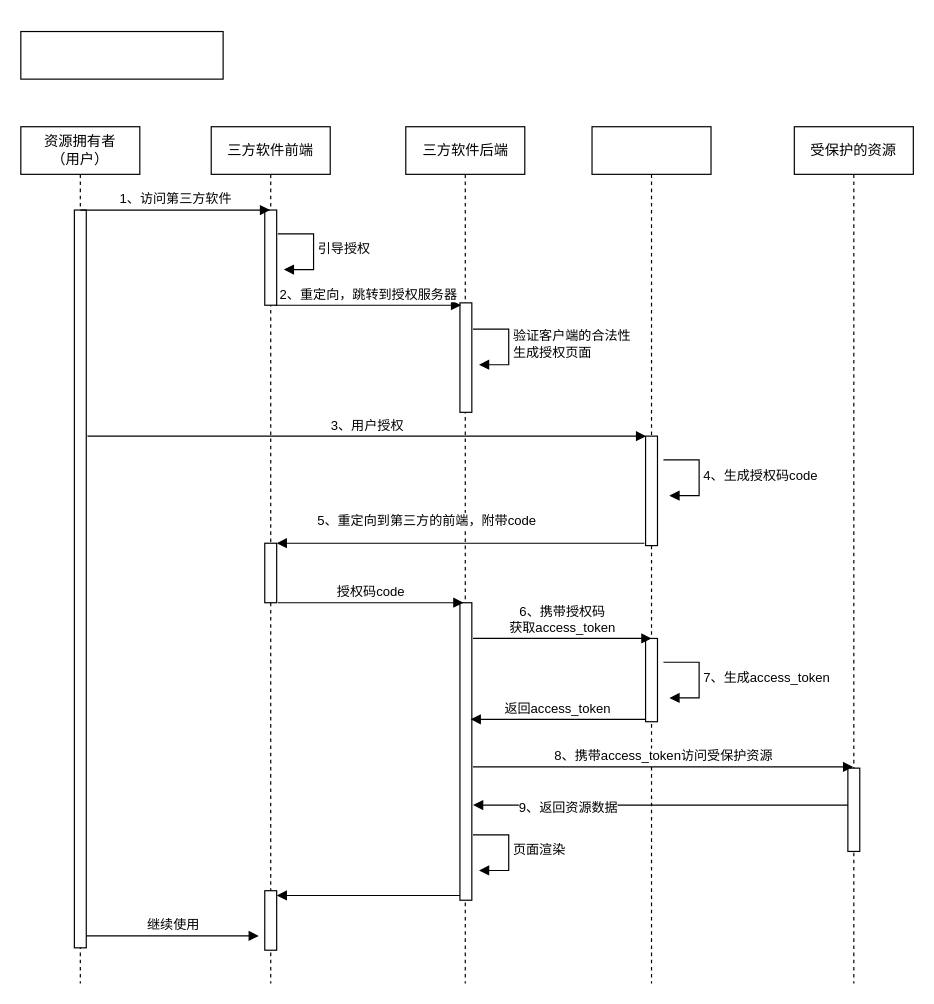
The diagram is 934 pixels wide and 1004 high, and some of its shapes have lost their labels. The shapes that lost their labels are listed below. From the top down, each one's box as (x1, y1, x2, y2) in pixels, then its label:
(20, 30, 223, 79): 授权码授权机制
(591, 126, 711, 984): 授权服务
